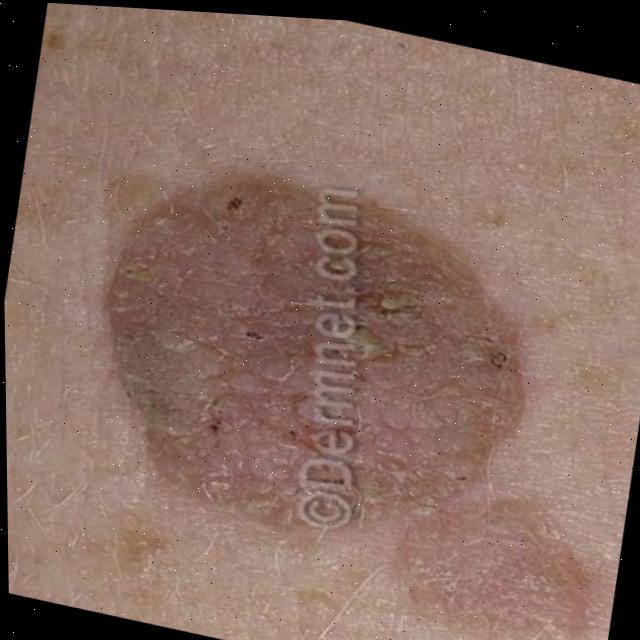Eczema: (24, 145, 530, 557)
